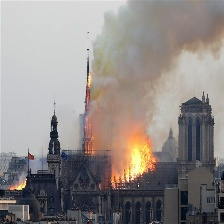fire: (109, 141, 159, 185), (86, 72, 95, 154), (9, 181, 29, 192)
smoke: (95, 1, 224, 141)
